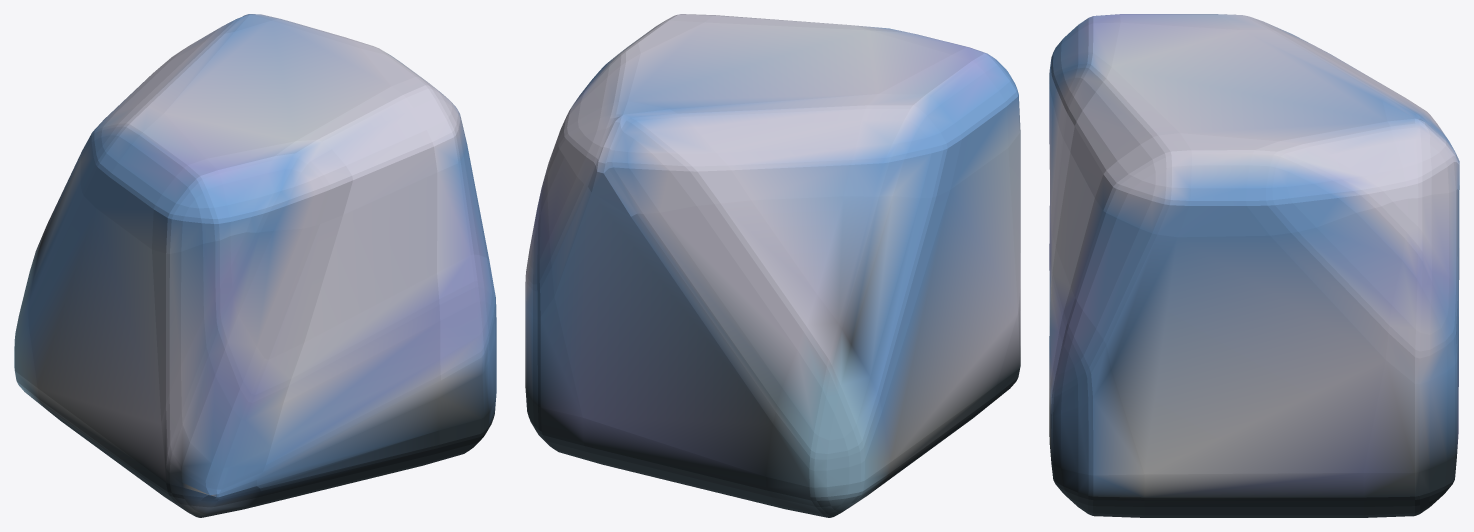
3 views of the same model, side by side, from view 1: azimuth 30°, elevation 25°; view 2: azimuth 150°, elevation 25°; view 3: azimuth 270°, elevation 25° (orthographic). The views are drawn at different scales.
Visible parts, largest first — view 1: Cube.001; view 2: Cube.001; view 3: Cube.001.
Part boxes in pixels (x1,y1,x2,y2): Cube.001: (14,14,496,517); Cube.001: (525,14,1020,517); Cube.001: (1049,14,1459,517).
Size of the model in its own units: 2 by 1.99 by 2.
